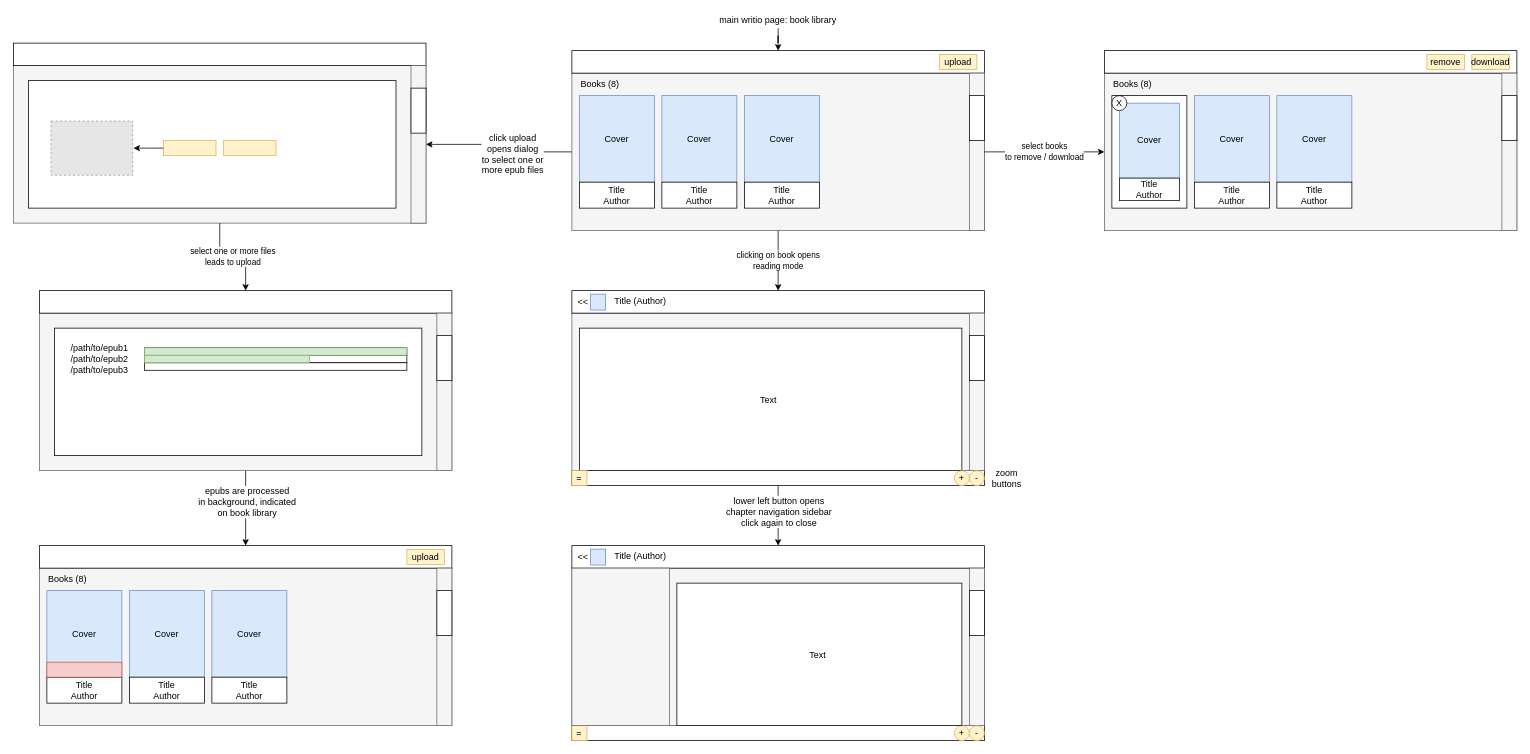
Image size: 1530x754. Some labels were removed from this diagram. Grey dashed boxes stand in for pictures. Each missing label, with the box of its shape:
cancel: (223, 140, 276, 156)
Kapitel 1 Kapitel 2 Kapitel 3 ...: (571, 567, 669, 726)
processing...: (46, 661, 122, 677)
select files: (163, 140, 216, 156)
